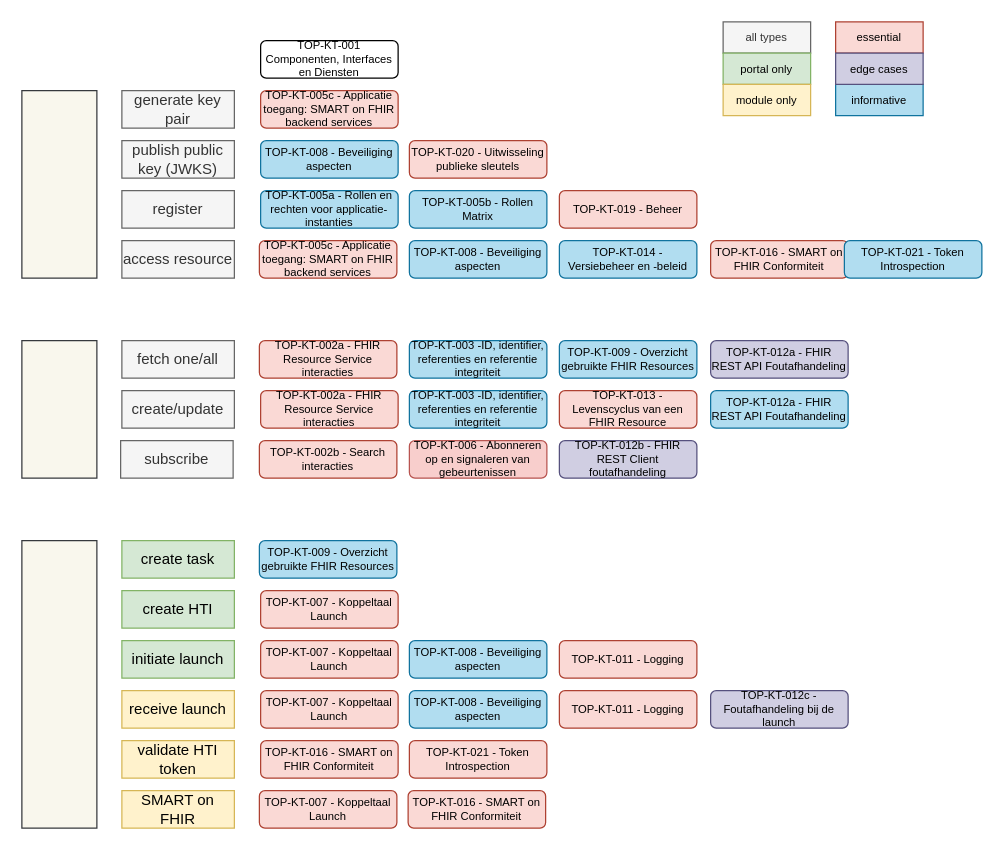
This 1004x850 diagram has some shape labels left out. Each missing label, with the box of its shape:
connect: (21, 89, 97, 278)
exchange: (21, 339, 97, 478)
launch: (21, 539, 97, 828)
